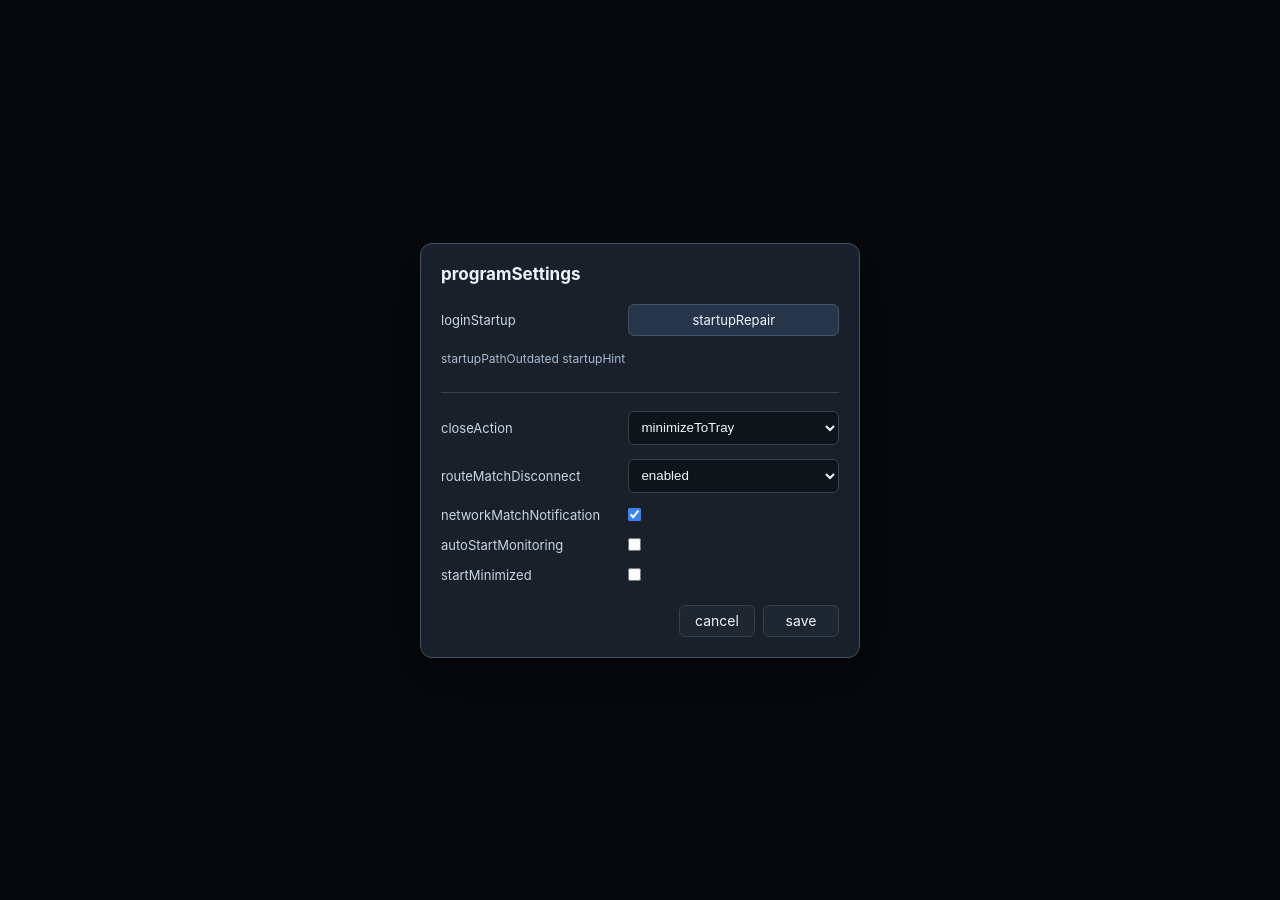
it: SettingsDialog › repairs a moved executable and displays errors
Click the button with class "startupBtn".
click(734, 320)  # box top-left (628, 304), bottom-right (839, 336)
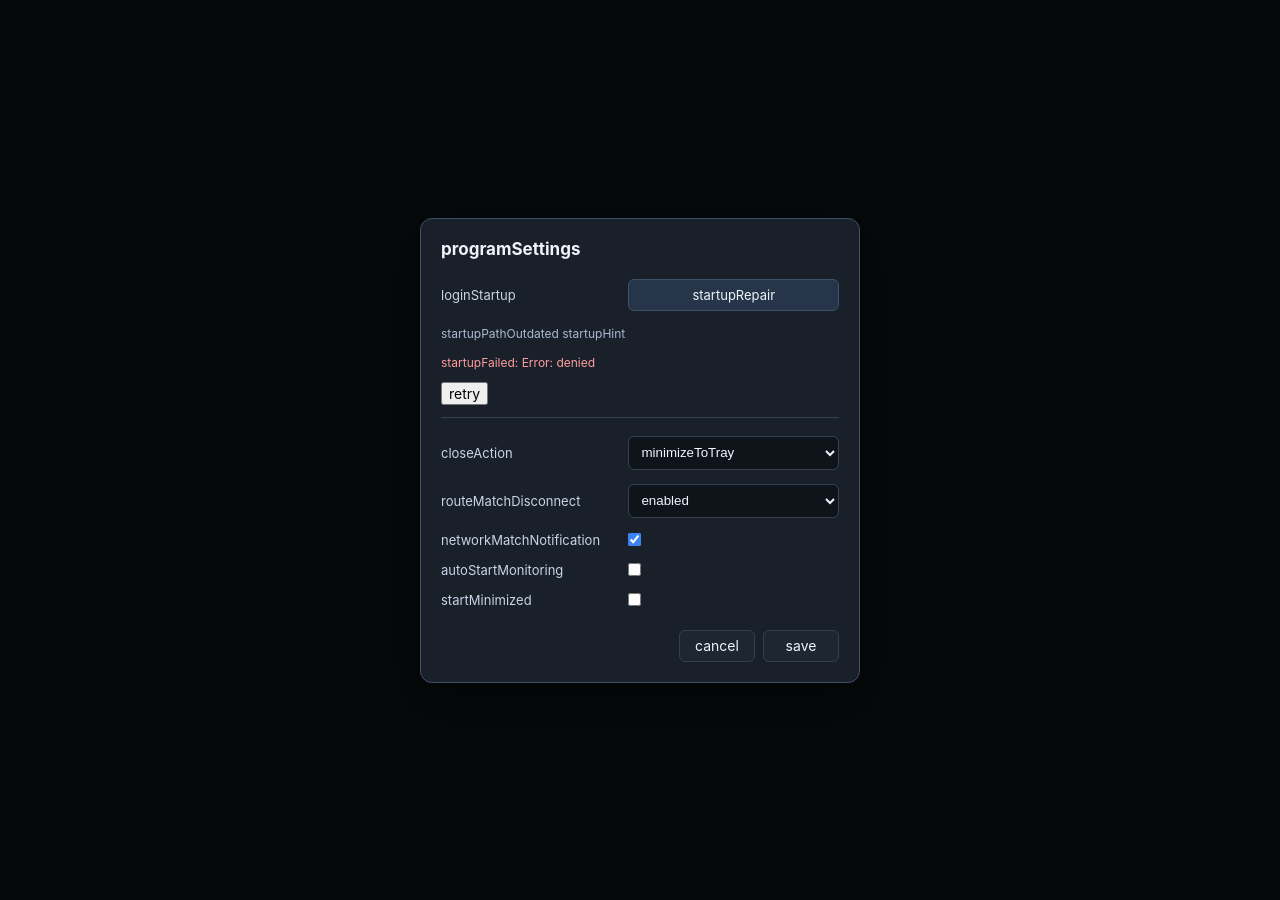
Expected: the button with class "startupBtn" is enabled, top-left (628, 278), bottom-right (839, 310)
Result: the message "startupFailed: Error: denied" is shown at top-left (441, 354), bottom-right (595, 370)
